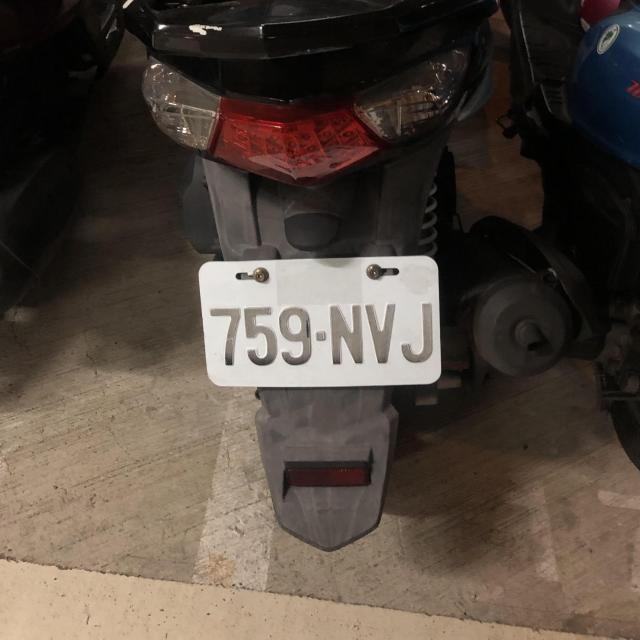W: (196, 251, 442, 394)
